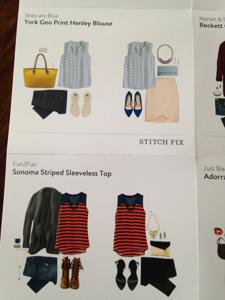C_tank top: (113, 190, 149, 258), (56, 190, 91, 255), (120, 38, 157, 93), (55, 37, 94, 89)
S_boots: (59, 254, 83, 293)
S_coat: (20, 184, 61, 255)
S_heels: (112, 258, 138, 294), (120, 91, 148, 119)
